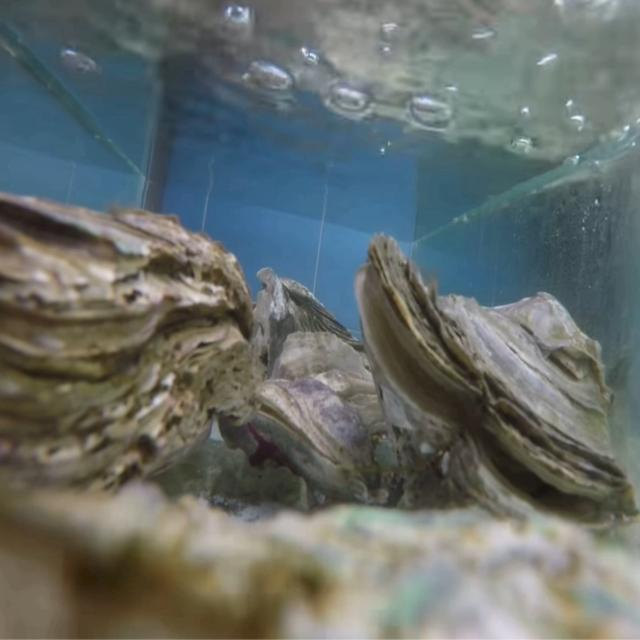Oyster-Closed: (0, 192, 256, 523), (250, 330, 409, 513)
Oyster-Indeterminate: (0, 477, 640, 640)
Oyster-Open: (354, 233, 640, 542)
